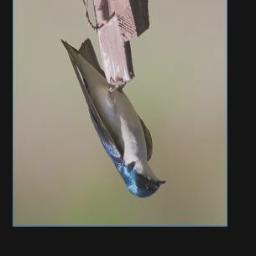Swallow: (59, 37, 167, 200)
